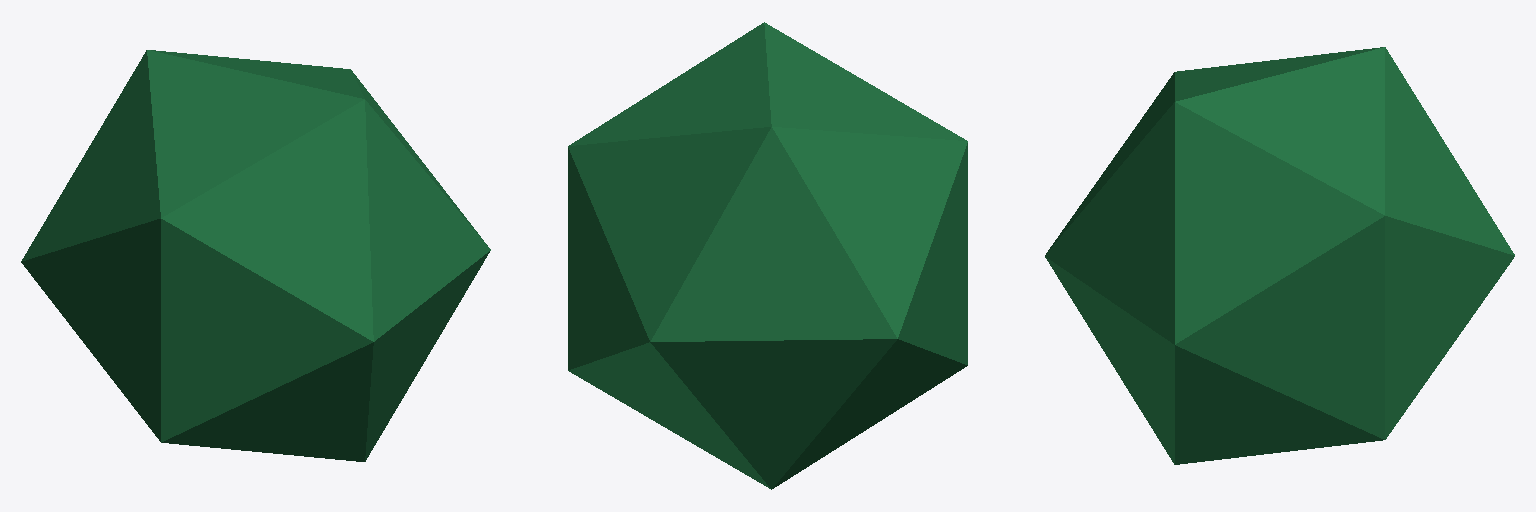
The model's file is button_1.obj.
3 renders of one model, left to right at view 1: azimuth 30°, elevation 25°; view 2: azimuth 150°, elevation 25°; view 3: azimuth 270°, elevation 25°, orthographic.
Parts seen in each view (by area): view 1: button1; view 2: button1; view 3: button1.
Part boxes in pixels (x1,y1,x2,y2): button1: (21,50,490,461); button1: (568,22,967,489); button1: (1045,47,1514,464).
Bounding box in the file's own units: 0.5367 × 0.5104 × 0.6.